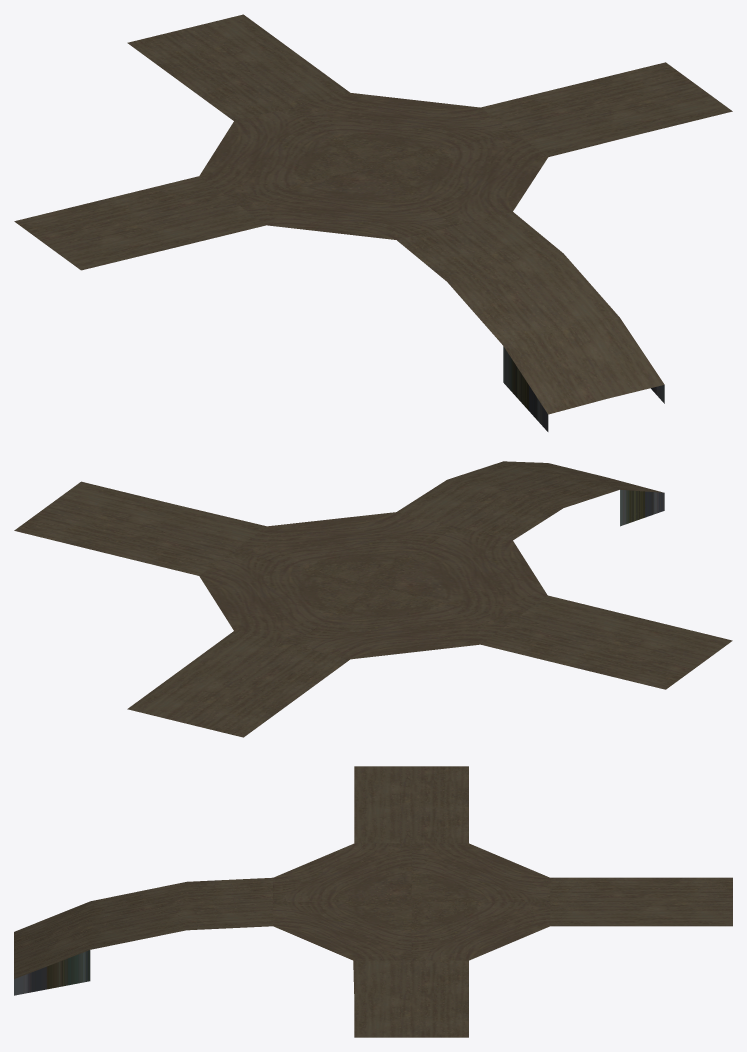
Rendered from terrain_towncenterstone.fbx.
3 views of the same model, one above another, from view 1: azimuth 30°, elevation 25°; view 2: azimuth 150°, elevation 25°; view 3: azimuth 270°, elevation 25° (orthographic). The views are drawn at different scales.
Parts seen in each view (by area): view 1: terrain_towncenterstone-0; view 2: terrain_towncenterstone-0; view 3: terrain_towncenterstone-0.
Part boxes in pixels (x1,y1,x2,y2): terrain_towncenterstone-0: (14,14,732,431); terrain_towncenterstone-0: (14,461,732,737); terrain_towncenterstone-0: (14,766,732,1037).
Bounding box in the file's own units: 29.98 × 3.58 × 33.55.
